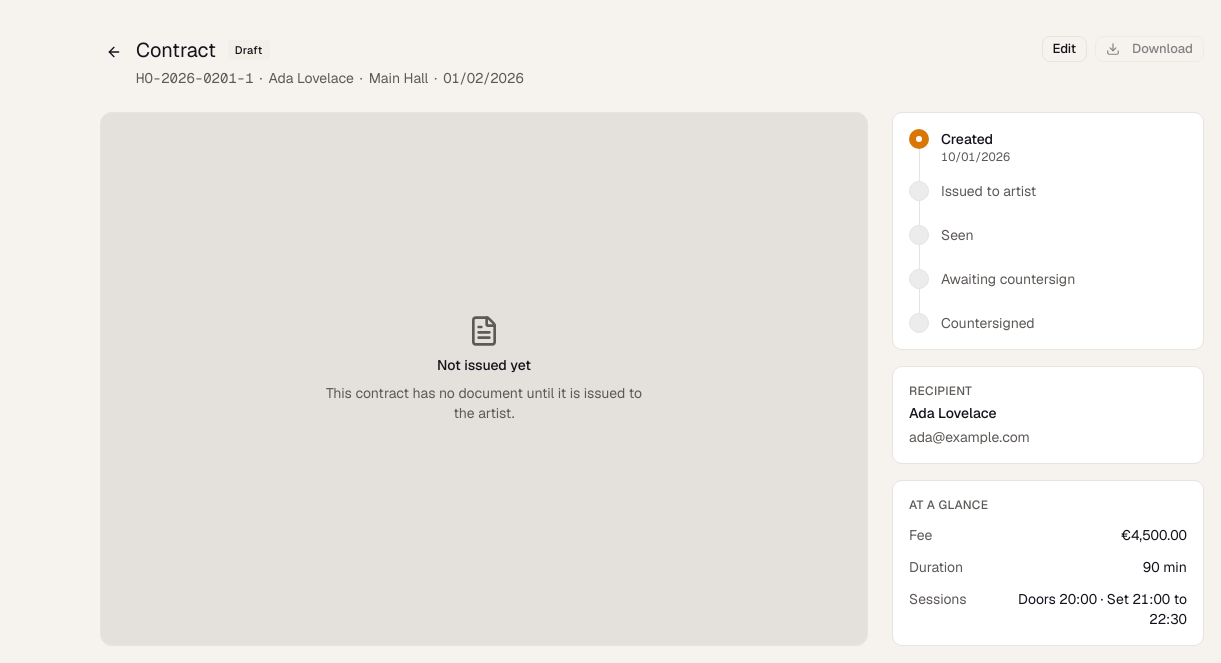
Test: HireOrderDetailPage › shows an Edit button for a draft order that navigates to the V2 builder
Click the button "Edit" at (1064, 49), box top-left (1042, 36), bottom-right (1087, 62)
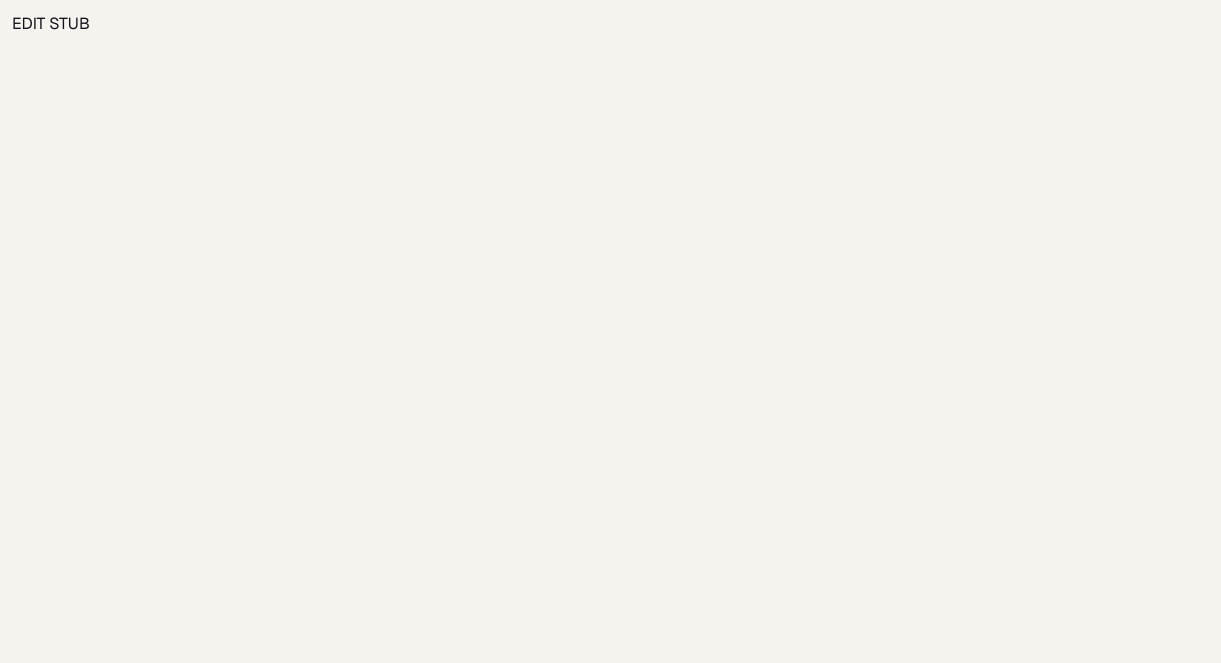
Expected: the text "EDIT STUB" is shown, top-left (12, 13), bottom-right (90, 34)
